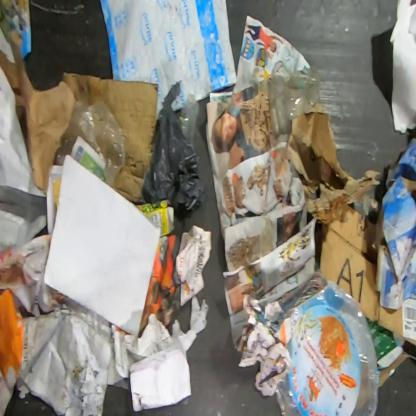cardboard: (0, 43, 158, 204), (286, 102, 381, 236), (319, 209, 403, 337), (374, 137, 415, 348), (0, 288, 26, 415), (136, 199, 174, 237)
soft_plastic: (100, 0, 238, 120), (275, 279, 381, 415), (142, 108, 204, 220), (268, 66, 322, 139), (179, 94, 200, 144)
